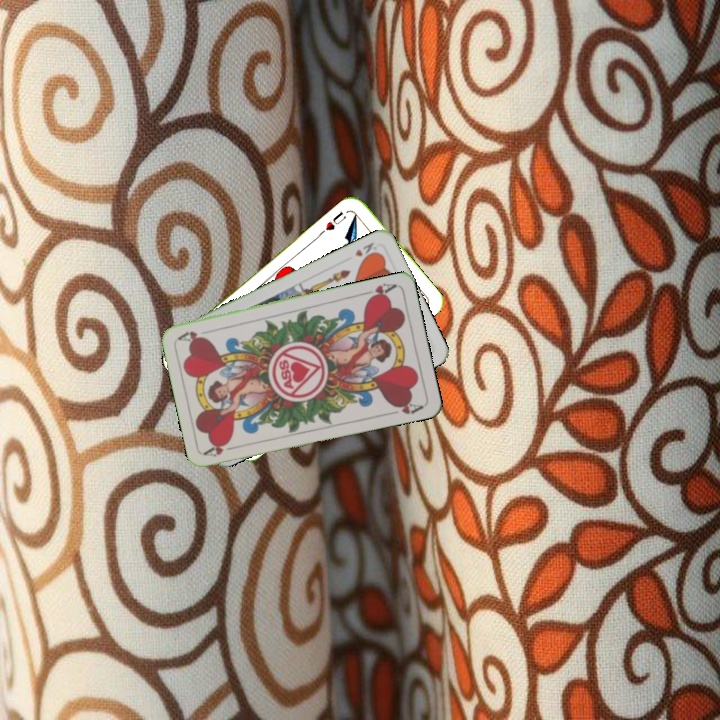HA: (359, 279, 399, 303), (201, 437, 242, 460)
HK: (351, 238, 381, 263)
HU: (321, 207, 349, 233)
